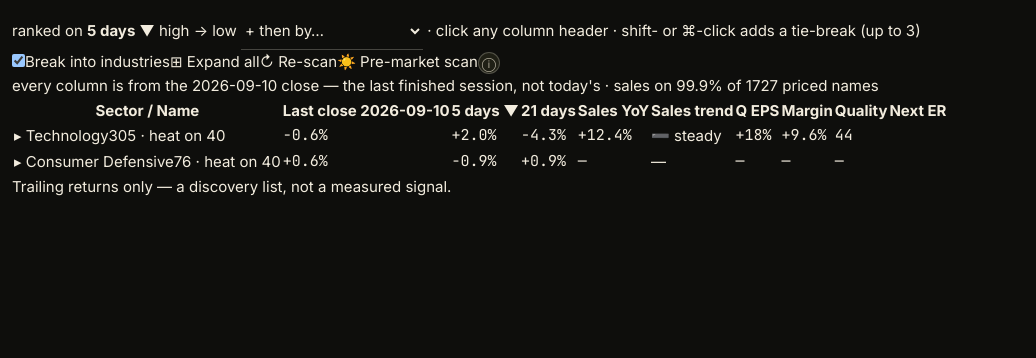
Test: HottestSectors board › prints the sales block beside the move, so a price climb with falling sales is visible
Click the button "▸ Consumer Defensive" at (94, 161), box 14,150 -> 174,173
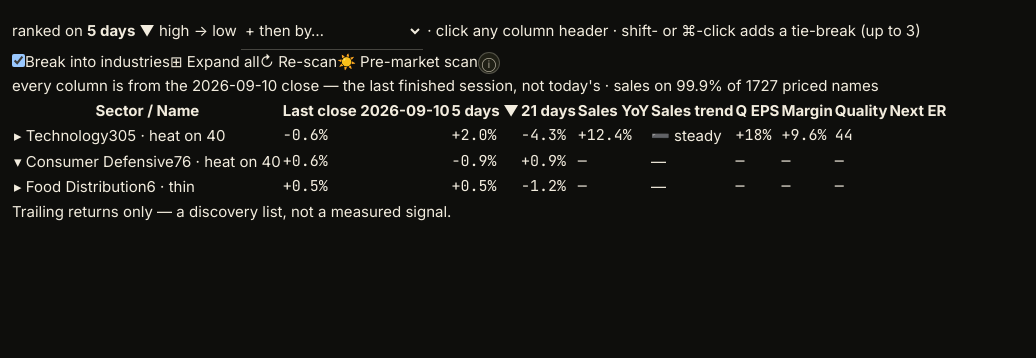
Click the button "▸ Food Distribution" at (80, 187), box 14,175 -> 147,198
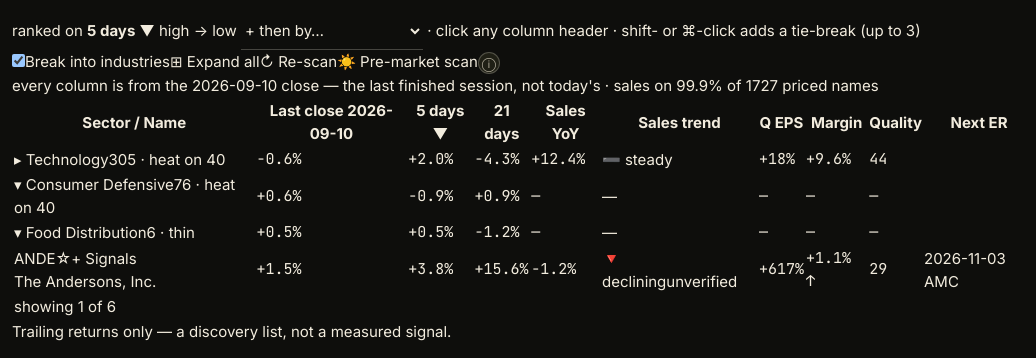
Expected: the text "+15.6%" is shown, 474,247 -> 529,293
Expected: the text "-1.2%" in the row of "The Andersons, Inc." is shown, 531,259 -> 576,279
Expected: the text "declining" is shown, 602,272 -> 666,291
